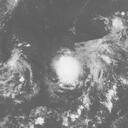cyclone: (50, 48, 84, 89)
